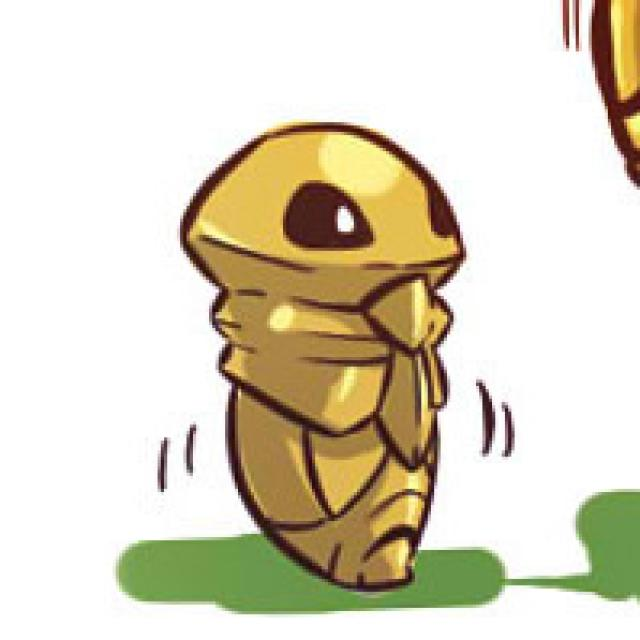Kakuna: (173, 99, 511, 600)
